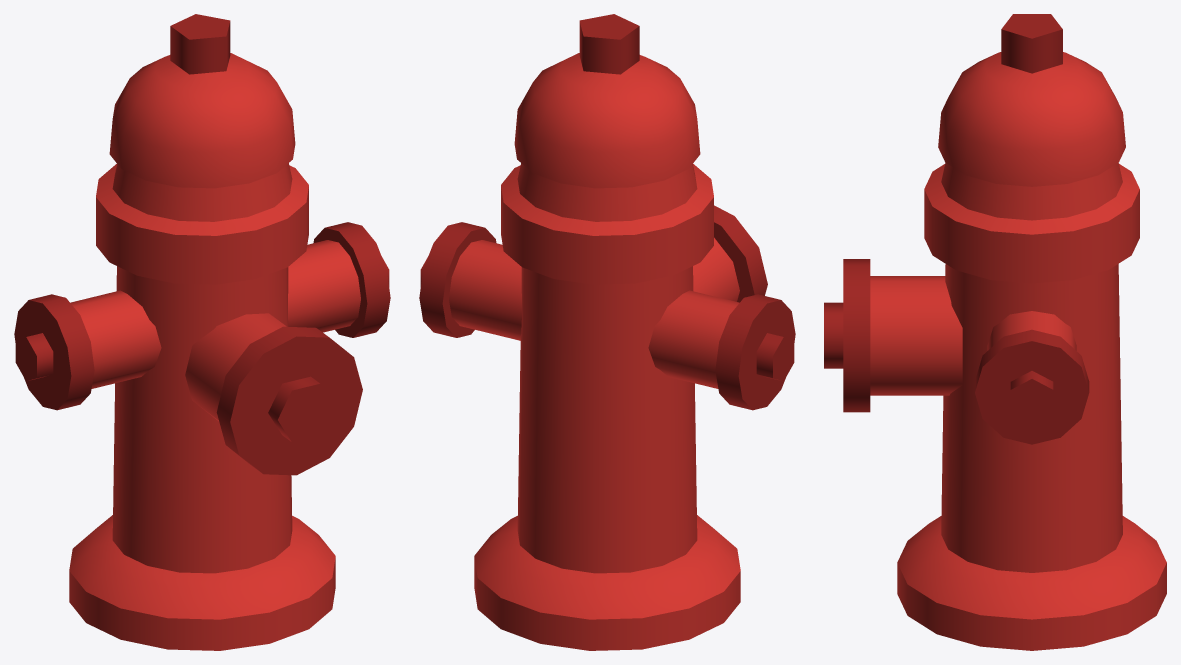
The model's file is hidrante.glb.
3 views of the same model, side by side, from view 1: azimuth 30°, elevation 25°; view 2: azimuth 150°, elevation 25°; view 3: azimuth 270°, elevation 25° (orthographic).
Parts seen in each view (by area): view 1: Hidrante; view 2: Hidrante; view 3: Hidrante.
Boxes of the visible parts, <box> form: Hidrante: <box>14,14,390,650</box>; Hidrante: <box>419,14,795,650</box>; Hidrante: <box>824,14,1166,650</box>.
Size of the model in its own units: 0.53 by 0.815 by 0.445.
